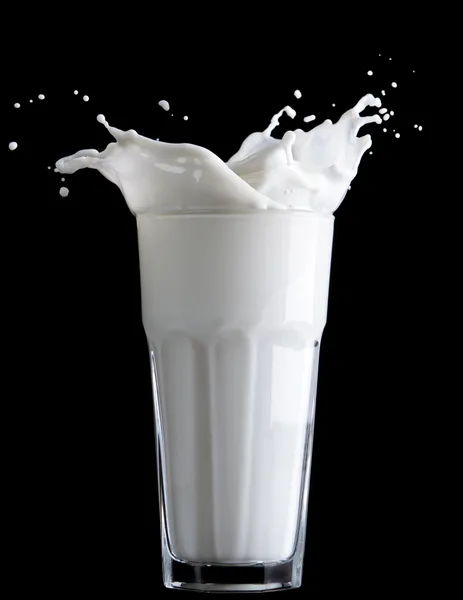produk_susu: (164, 189, 298, 582)
